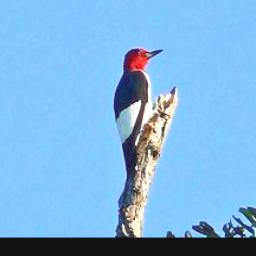Woodpecker: (101, 36, 171, 207)
